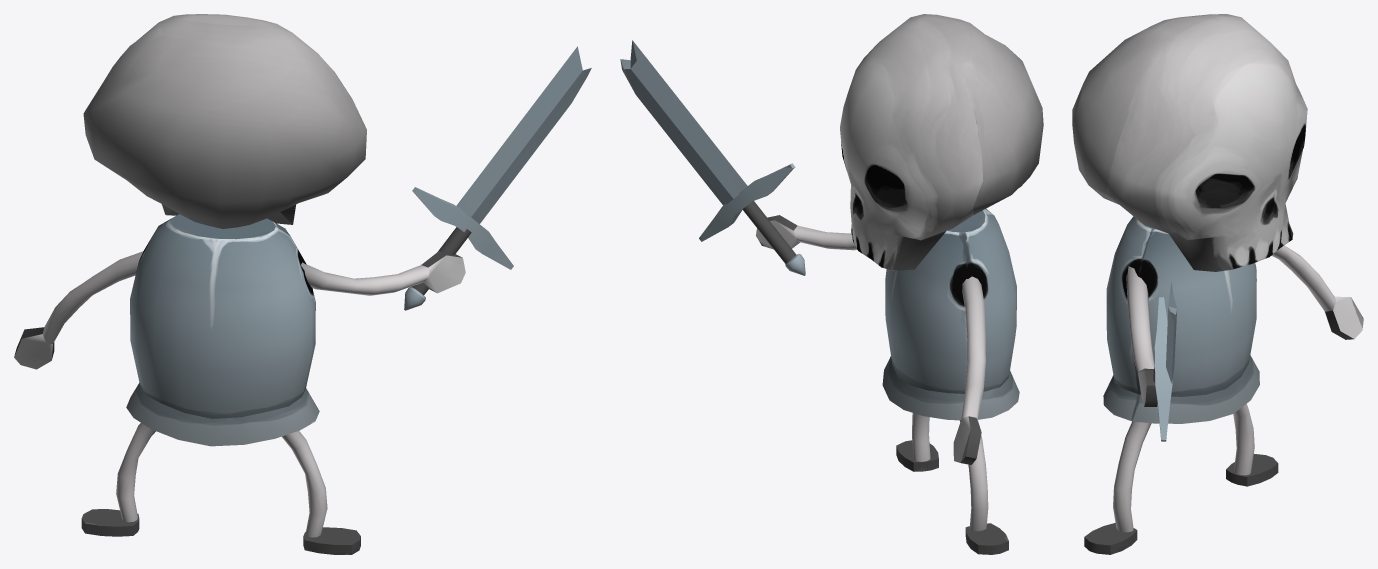
Rendered from u_enemy1.FBX.
The picture shows the model from 3 angles, left to right: view 1: azimuth 30°, elevation 25°; view 2: azimuth 150°, elevation 25°; view 3: azimuth 270°, elevation 25°; orthographic projection. The views are drawn at different scales.
Visible parts, largest first — view 1: Cone003; view 2: Cone003; view 3: Cone003.
Boxes of the visible parts, x1,y1,x2,y2 form: Cone003: (14,14,591,554); Cone003: (620,14,1043,554); Cone003: (1072,14,1363,554).
Bounding box in the file's own units: 167 × 168 × 91.54.
1 material, 1 textured.
